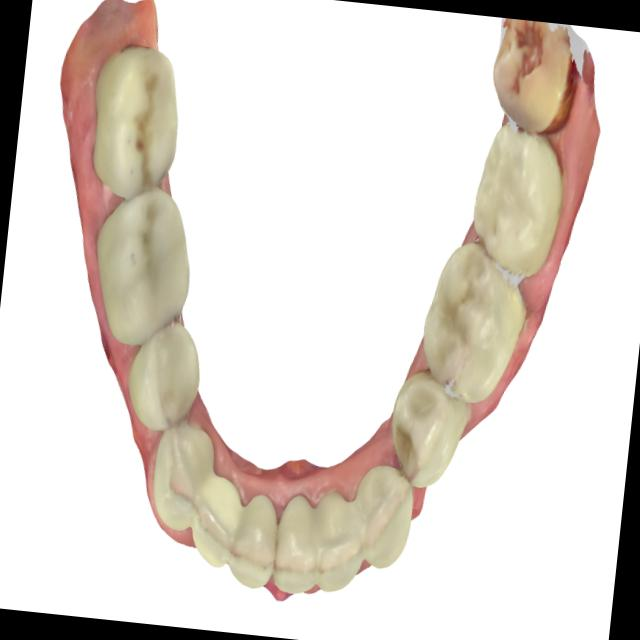tooth: (73, 173, 210, 358), (413, 228, 540, 414), (460, 103, 582, 282), (77, 26, 195, 207), (477, 16, 592, 148), (374, 360, 478, 502), (119, 307, 215, 437), (137, 409, 229, 542), (298, 479, 385, 605), (217, 472, 294, 605), (341, 457, 424, 575), (263, 479, 332, 602), (184, 459, 246, 584)
